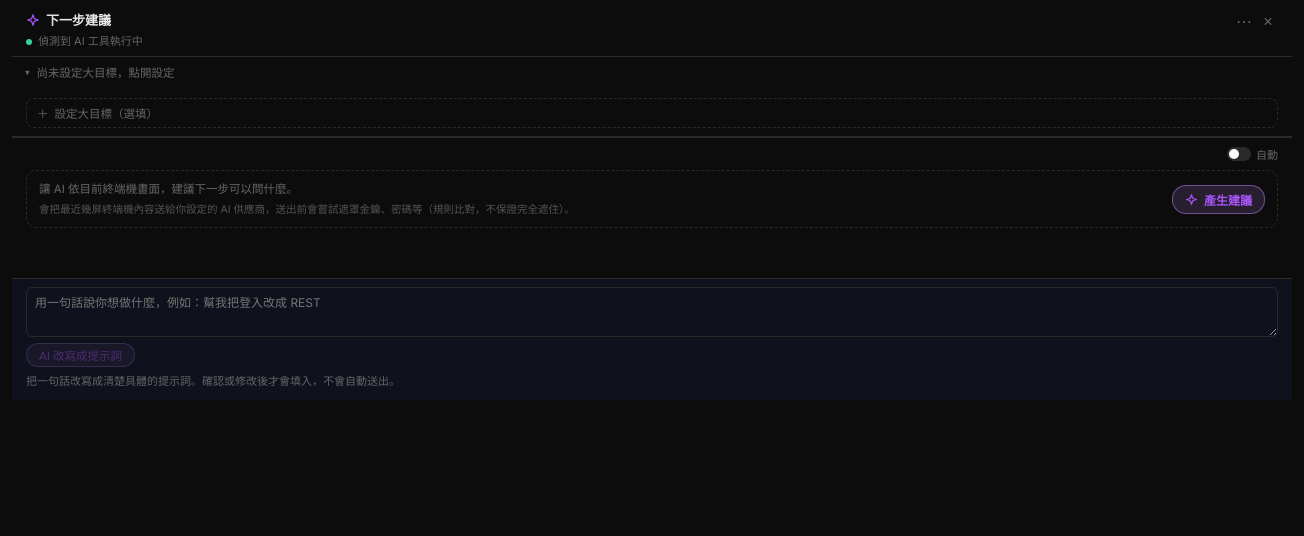
Test case: SuggestionSidebar › AI polish of the goal › is disabled while the draft is blank
This screenshot has width=1304, height=536.
Click the button "＋ 設定大目標（選填）" at coordinates (106, 114), box 26,98 -> 1278,128
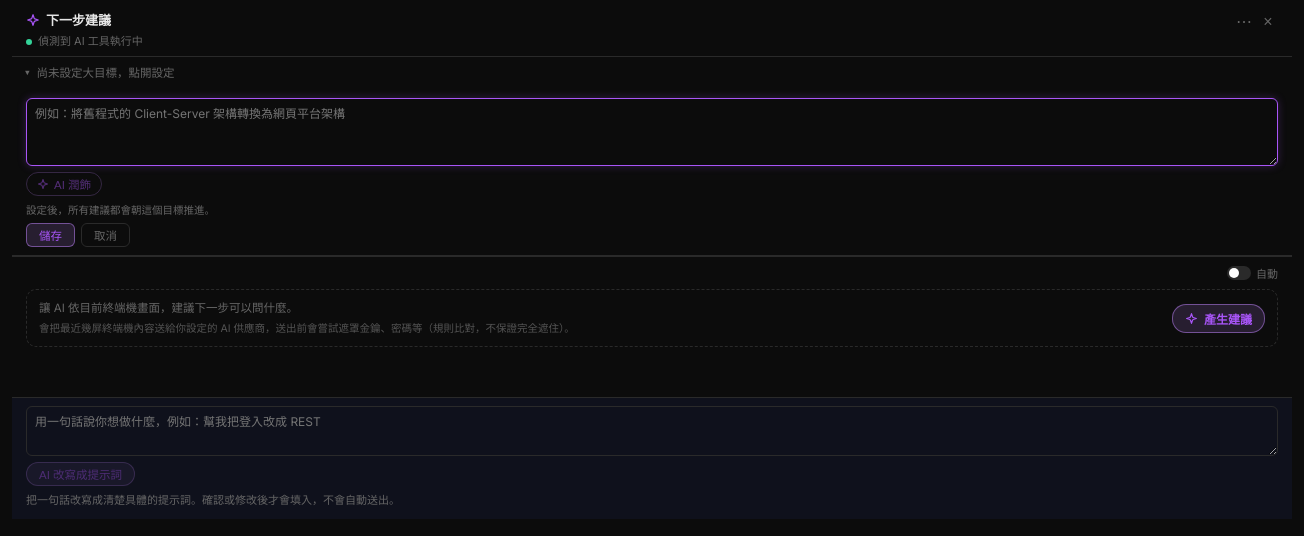
Check: the button "AI 潤飾" is disabled, box 26,172 -> 102,196
Type "轉成網頁版" into the text box named "大目標" at coordinates (652, 132), box 26,98 -> 1278,166
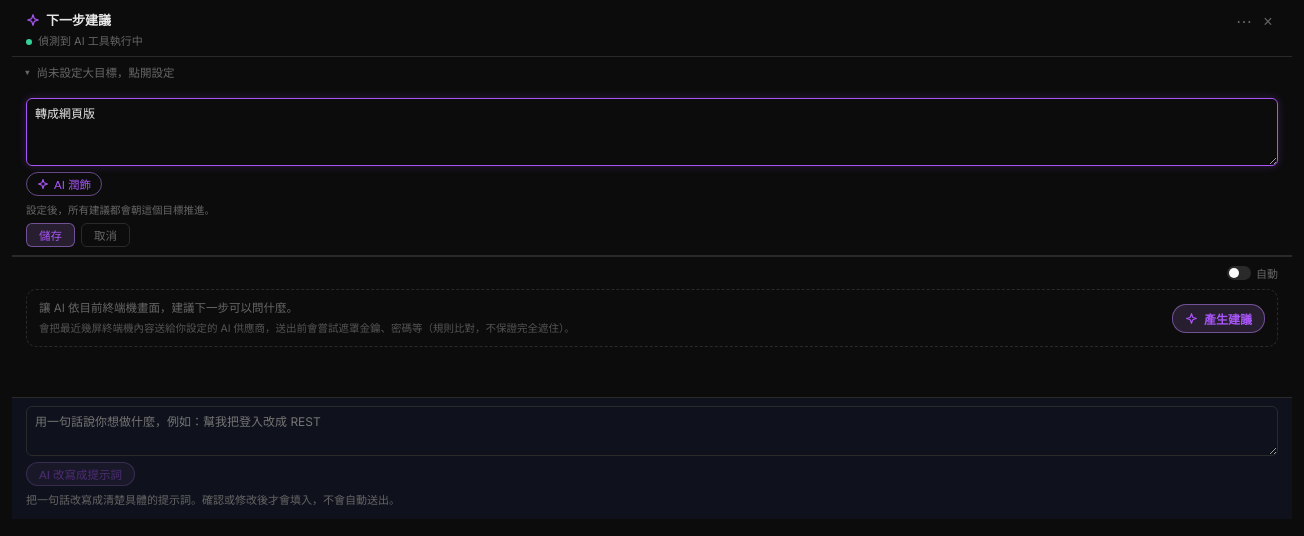
Check: the button "AI 潤飾" is enabled, box 26,172 -> 102,196
